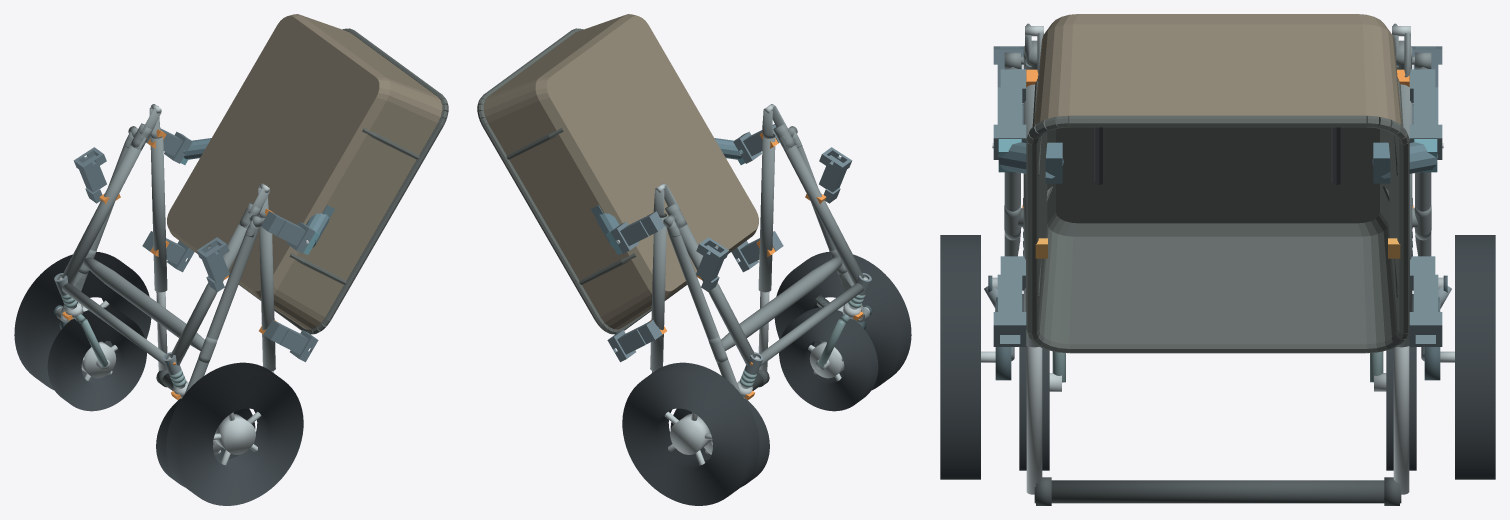
File: S14_w650_state3_wheel_L.glb
3 renders of one model, left to right at view 1: azimuth 30°, elevation 25°; view 2: azimuth 150°, elevation 25°; view 3: azimuth 270°, elevation 25°, orthographic. The views are drawn at different scales.
Parts seen in each view (by area): view 1: S14_Cabin, RL_tire.008, FR_tire.008, RR_tire.008, V46_rearbar.009, main_upper_1.009, main_lower_1.009, V46_rear_leg_-1.009, main_upper_-1.009, main_lower_-1.009, front_fixed_round_tube.008, RL_sealed_hub.008 (+10 smaller); view 2: S14_Cabin, RR_tire.008, FL_tire.008, RL_tire.008, V46_rearbar.009, main_upper_-1.009, main_lower_-1.009, V46_rear_leg_1.009, main_upper_1.009, main_lower_1.009, front_fixed_round_tube.008, RR_sealed_hub.008 (+10 smaller); view 3: S14_Cabin, RL_tire.008, RR_tire.008, round_handle.008, S14_Cabin_Mount_M, Universal_Cabin_Receiver_H_1, Universal_Cabin_Receiver_H_-1, handle_slider_1.008, handle_slider_-1.008, Universal_Cabin_Receiver_M_1, Universal_Cabin_Receiver_M_-1, FL_tire.008 (+5 smaller).
Part boxes in pixels (<box>): S14_Cabin: <box>167,14,448,334</box>; RL_tire.008: <box>166,362,303,505</box>; FR_tire.008: <box>47,307,146,411</box>; RR_tire.008: <box>14,251,151,389</box>; V46_rearbar.009: <box>83,257,204,350</box>; main_upper_1.009: <box>150,136,167,292</box>; main_lower_1.009: <box>61,137,145,284</box>; V46_rear_leg_-1.009: <box>184,226,258,394</box>; main_upper_-1.009: <box>259,216,275,371</box>; main_lower_-1.009: <box>170,222,249,365</box>; front_fixed_round_tube.008: <box>62,283,165,365</box>; RL_sealed_hub.008: <box>215,414,255,454</box>; S14_Cabin: <box>477,14,758,334</box>; RR_tire.008: <box>622,362,759,505</box>; FL_tire.008: <box>779,307,878,411</box>; RL_tire.008: <box>774,251,911,389</box>; V46_rearbar.009: <box>721,257,842,350</box>; main_upper_-1.009: <box>758,135,775,292</box>; main_lower_-1.009: <box>780,137,864,284</box>; V46_rear_leg_1.009: <box>667,226,741,394</box>; main_upper_1.009: <box>650,216,666,371</box>; main_lower_1.009: <box>676,222,755,365</box>; front_fixed_round_tube.008: <box>760,283,863,365</box>; RR_sealed_hub.008: <box>670,414,710,454</box>; S14_Cabin: <box>1026,14,1409,353</box>; RL_tire.008: <box>940,235,980,479</box>; RR_tire.008: <box>1455,235,1495,479</box>; round_handle.008: <box>1034,480,1401,503</box>; S14_Cabin_Mount_M: <box>992,139,1443,183</box>; Universal_Cabin_Receiver_H_1: <box>1409,256,1442,346</box>; Universal_Cabin_Receiver_H_-1: <box>993,256,1026,346</box>; handle_slider_1.008: <box>1393,346,1409,494</box>; handle_slider_-1.008: <box>1026,346,1042,494</box>; Universal_Cabin_Receiver_M_1: <box>1409,69,1442,159</box>; Universal_Cabin_Receiver_M_-1: <box>993,69,1026,159</box>; FL_tire.008: <box>1019,294,1049,470</box>.
Size of the model in its own units: 0.872 by 0.9739 by 0.8171.
